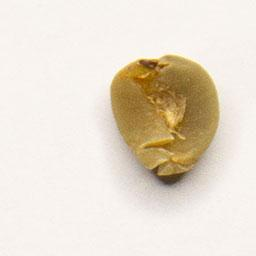premium: (107, 51, 223, 179)
